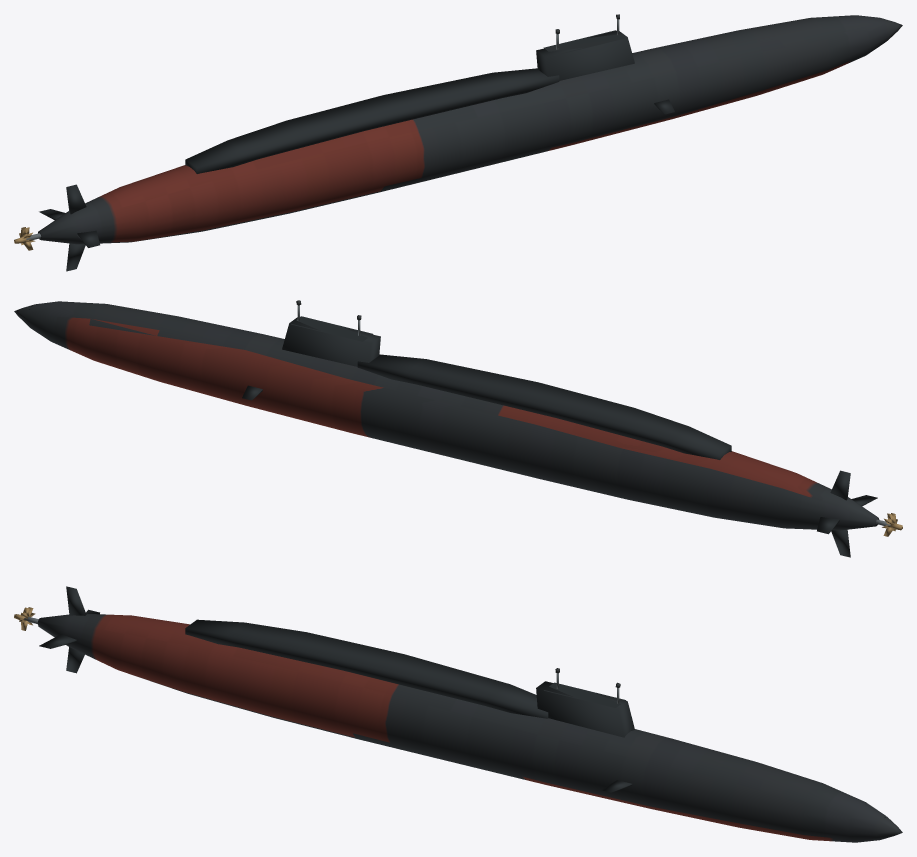
File: US_SSBN_JamesMadison_LOD3.fbx
The picture shows the model from 3 angles, top to bottom: view 1: azimuth 30°, elevation 25°; view 2: azimuth 150°, elevation 25°; view 3: azimuth 330°, elevation 25°; orthographic projection.
Parts seen in each view (by area): view 1: US_SSBN_JamesMadison_LOD3; view 2: US_SSBN_JamesMadison_LOD3; view 3: US_SSBN_JamesMadison_LOD3.
Boxes of the visible parts, x1,y1,x2,y2 form: US_SSBN_JamesMadison_LOD3: (14, 14, 902, 271); US_SSBN_JamesMadison_LOD3: (14, 300, 902, 557); US_SSBN_JamesMadison_LOD3: (14, 586, 902, 842).
Size of the model in its own units: 134 by 16.72 by 17.53.
Materials: 6 (1 with a texture image).
